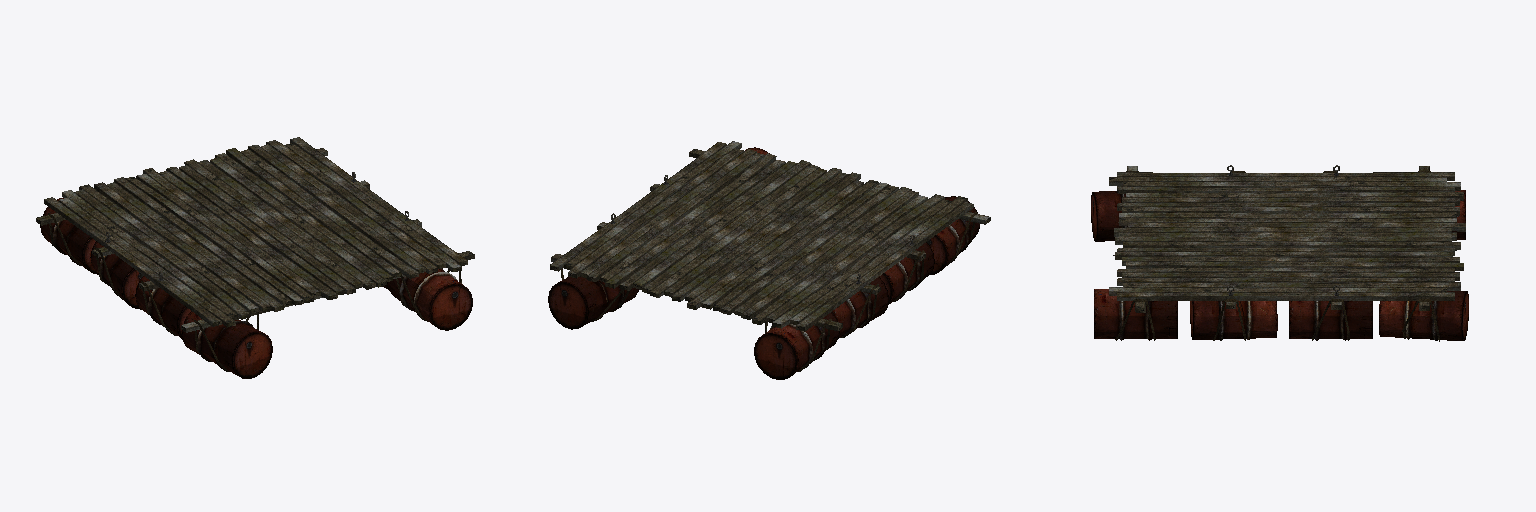
3 renders of one model, left to right at view 1: azimuth 30°, elevation 25°; view 2: azimuth 150°, elevation 25°; view 3: azimuth 270°, elevation 25°, orthographic.
Visible parts, largest first — view 1: Barge; view 2: Barge; view 3: Barge.
Part boxes in pixels (x1,y1,x2,y2): Barge: (36,137,474,378); Barge: (548,141,990,379); Barge: (1091,165,1468,341).
Size of the model in its own units: 11.55 by 2.46 by 12.94.
1 materials, 1 textured.